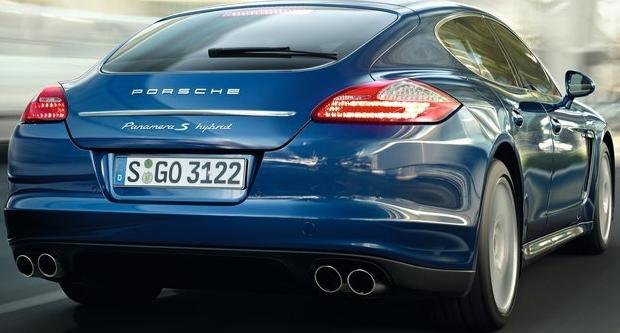back_view: (0, 74, 511, 297)
backlight: (308, 65, 459, 148)
side_glass: (455, 17, 572, 92)
